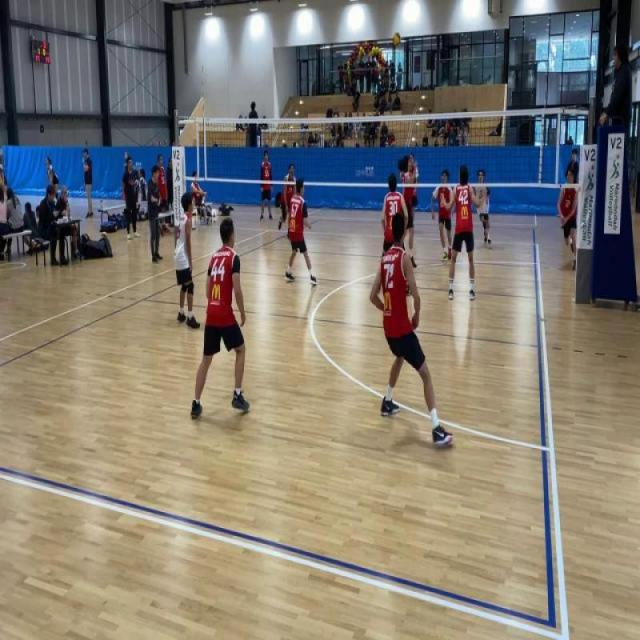volleyball: (392, 32, 400, 48), (101, 231, 108, 239)
